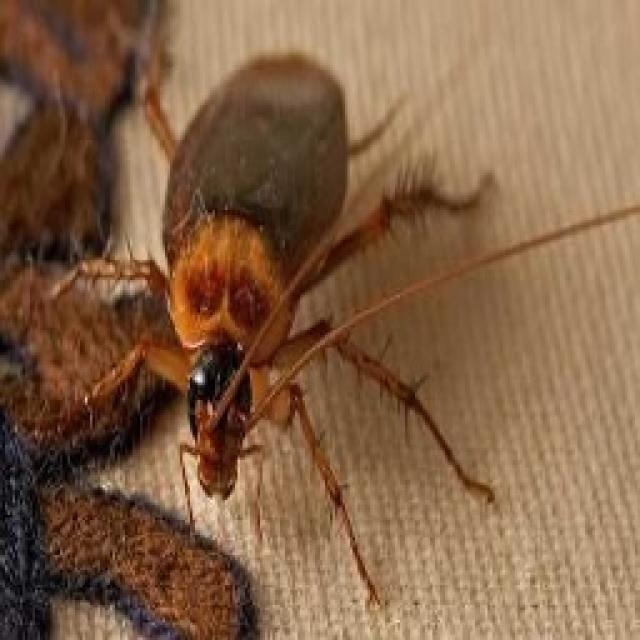cockroach: (38, 35, 432, 591)
